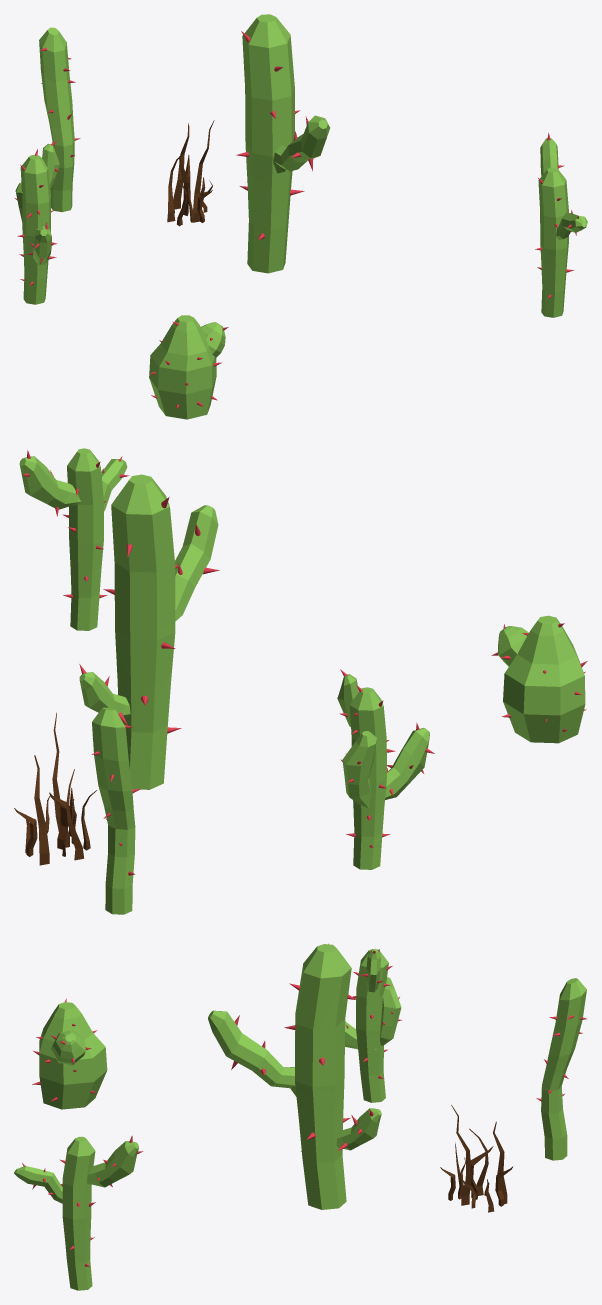
Rendered from cactiandgrass.fbx.
3 views of the same model, one above another, from view 1: azimuth 30°, elevation 25°; view 2: azimuth 150°, elevation 25°; view 3: azimuth 270°, elevation 25° (orthographic). The views are drawn at different scales.
Visible parts, largest first — view 1: Cube.001, Cube.004, Cube.002, Cube.003, Cube.005, Cube.006; view 2: Cube.001, Cube.004, Cube.003, Cube.002, Cube.005, Cube.006; view 3: Cube.001, Cube.002, Cube.004, Cube.003, Cube.005, Cube.006.
Boxes of the visible parts, x1,y1,x2,y2 form: Cube.001: [236, 14, 330, 273]; Cube.004: [149, 315, 228, 419]; Cube.002: [535, 133, 587, 317]; Cube.003: [15, 140, 59, 304]; Cube.005: [39, 27, 80, 212]; Cube.006: [167, 120, 214, 226]; Cube.001: [79, 474, 219, 789]; Cube.004: [491, 615, 587, 743]; Cube.003: [337, 669, 434, 869]; Cube.002: [19, 448, 129, 630]; Cube.005: [91, 707, 141, 914]; Cube.006: [14, 712, 96, 865]; Cube.001: [208, 943, 381, 1209]; Cube.002: [14, 1135, 143, 1290]; Cube.004: [32, 998, 107, 1109]; Cube.003: [345, 949, 402, 1102]; Cube.005: [536, 978, 586, 1160]; Cube.006: [440, 1105, 513, 1212].
Bounding box in the file's own units: 785 × 433 × 874.
